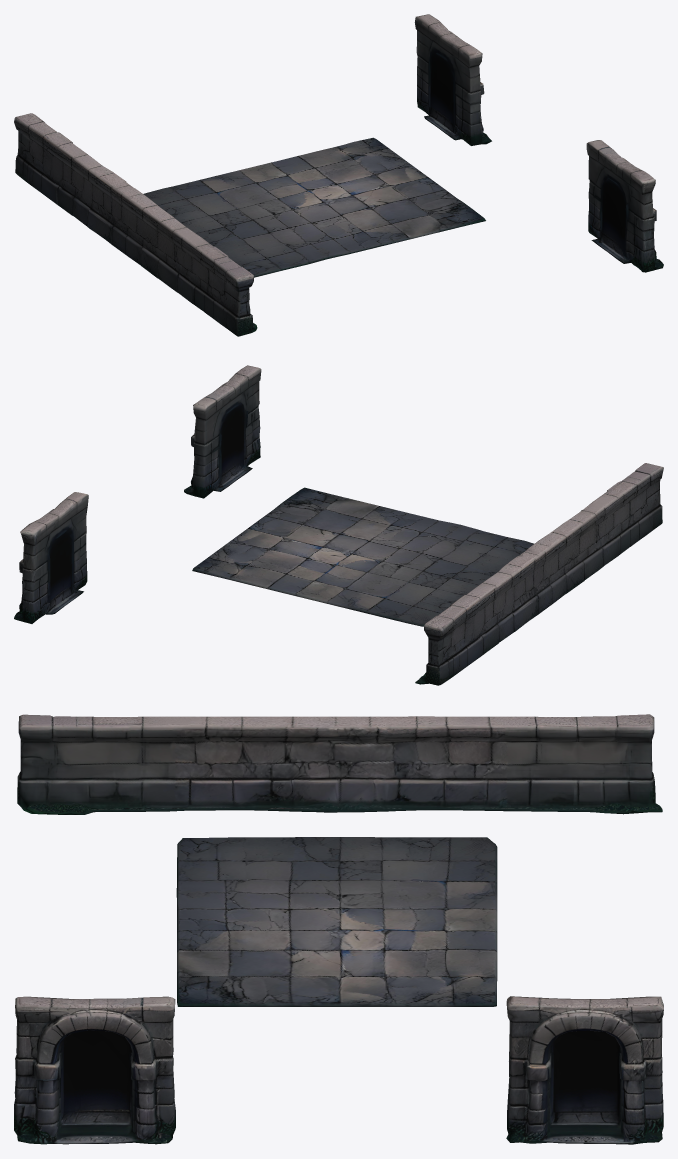
The model's file is PiezasDungeon.fbx.
3 views of the same model, one above another, from view 1: azimuth 30°, elevation 25°; view 2: azimuth 150°, elevation 25°; view 3: azimuth 270°, elevation 25° (orthographic). The views are drawn at different scales.
Visible parts, largest first — view 1: meshes[0]; view 2: meshes[0]; view 3: meshes[0].
Part boxes in pixels (x1=…): meshes[0]: x1=14, y1=14, x2=663, y2=336; meshes[0]: x1=14, y1=365, x2=663, y2=685; meshes[0]: x1=14, y1=714, x2=663, y2=1144.
Size of the model in its own units: 0.9994 by 0.2068 by 0.9142.
